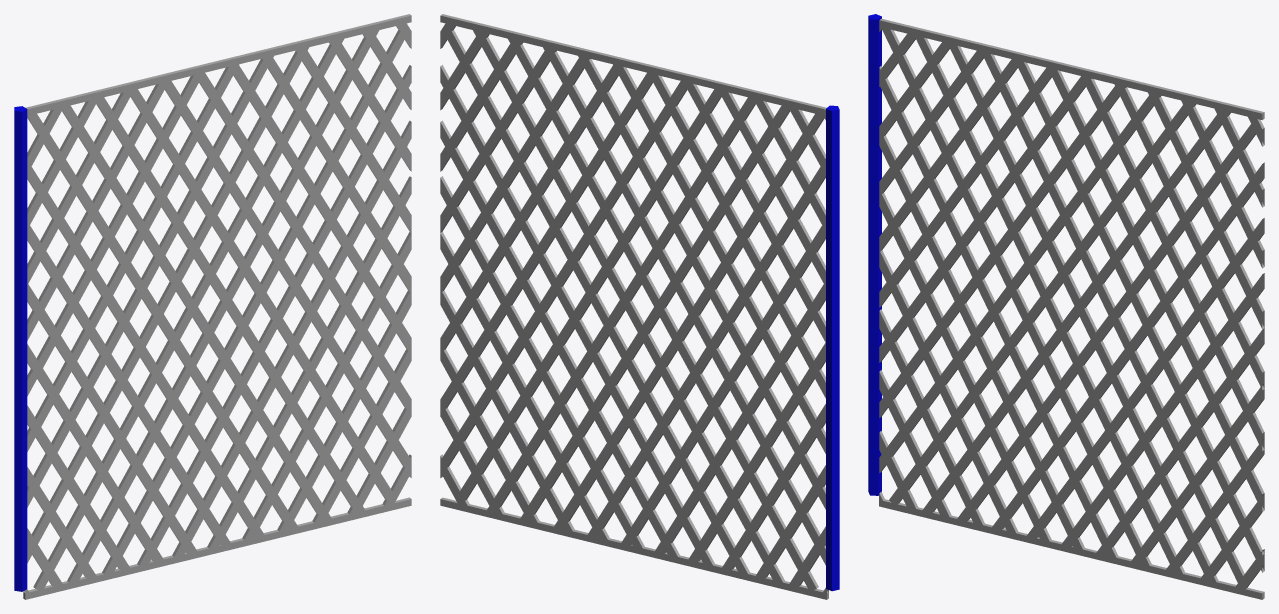
The model's file is ms_fence_01.fbx.
The picture shows the model from 3 angles, left to right: view 1: azimuth 30°, elevation 25°; view 2: azimuth 150°, elevation 25°; view 3: azimuth 330°, elevation 25°; orthographic projection.
Parts seen in each view (by area): view 1: fence_01; view 2: fence_01; view 3: fence_01.
Part boxes in pixels (left/top/right/bottom): fence_01: left=14, top=14, right=411, bottom=599; fence_01: left=440, top=14, right=839, bottom=599; fence_01: left=868, top=14, right=1264, bottom=599.
Bounding box in the file's own units: 178 × 211 × 5.3.
